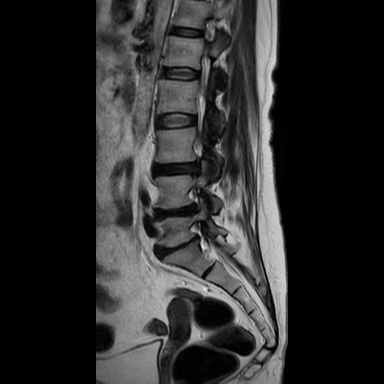LFS1: (182, 182, 210, 219)
